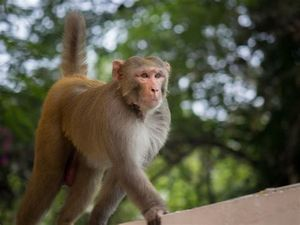monkey: (48, 7, 207, 196)
